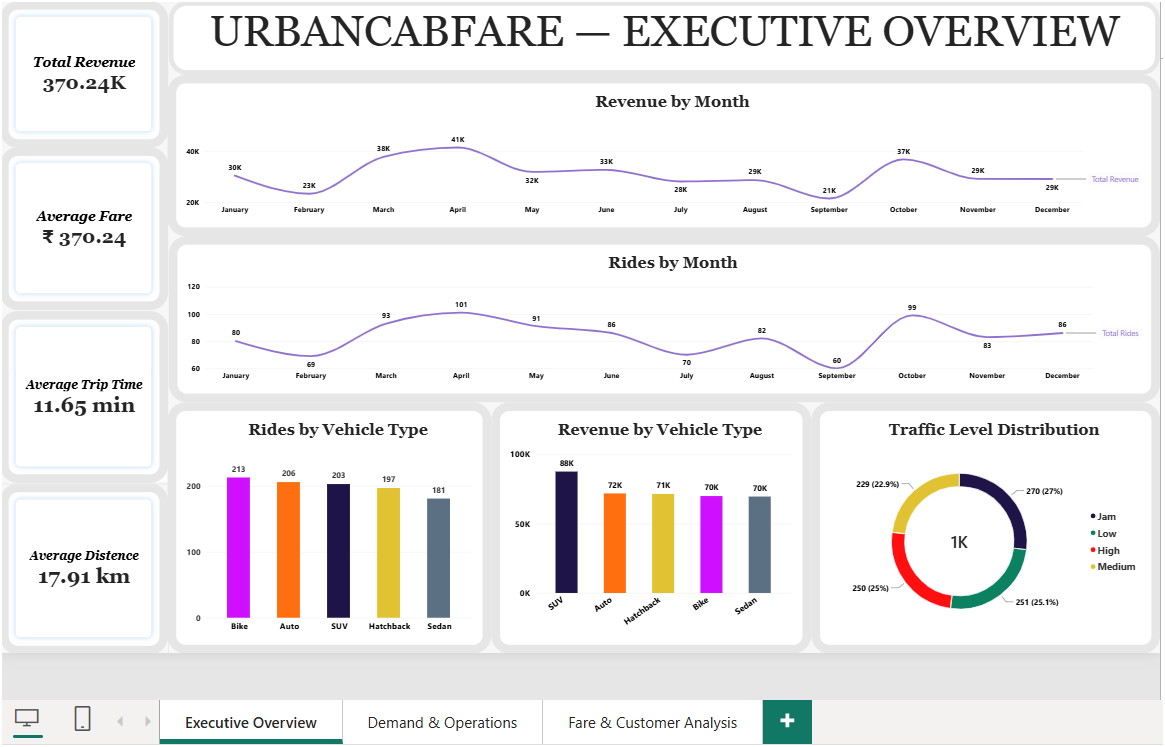

This screenshot's page, from the dashboard's own definition file:
{"tool":"powerbi","page":{"name":"Executive Overview","canvas":[1920,1080],"ordinal":0},"visuals":[{"type":"cardVisual","fields":{"Data":["UrbanCabFare.Total Revenue"]},"box":[0,0,278.5,243.1],"z":0},{"type":"cardVisual","fields":{"Data":["UrbanCabFare.Average Fare"]},"box":[0,242.9,278.5,269.6],"z":1000},{"type":"cardVisual","fields":{"Data":["UrbanCabFare.Average Distence"]},"box":[0,798.6,278.5,282.9],"z":2000},{"type":"cardVisual","fields":{"Data":["UrbanCabFare.Average Trip Time"]},"box":[0,512.5,278.5,285.1],"z":3000},{"type":"lineChart","title":"Revenue by Month","fields":{"Category":["UrbanCabFare.Ride_Date.Variation.Date Hierarchy.Month"],"Y":["UrbanCabFare.Total Revenue"]},"box":[277.3,122.1,1643.1,267],"z":4000},{"type":"lineChart","title":"Rides by Month","fields":{"Category":["UrbanCabFare.Ride_Date.Variation.Date Hierarchy.Month"],"Y":["UrbanCabFare.Total Rides"]},"box":[279.4,389.1,1641,275.2],"z":5000},{"type":"clusteredColumnChart","title":"Rides by Vehicle Type","fields":{"Y":["UrbanCabFare.Total Rides"],"Category":["UrbanCabFare.Type_of_vehicle"]},"box":[277.3,664.3,536,416],"z":6000},{"type":"clusteredColumnChart","title":"Revenue by Vehicle Type","fields":{"Category":["UrbanCabFare.Type_of_vehicle"],"Y":["UrbanCabFare.Total Revenue"]},"box":[813.3,664.3,529.8,416],"z":7000},{"type":"donutChart","title":"Traffic Level Distribution","fields":{"Category":["UrbanCabFare.Traffic_Level"],"Y":["UrbanCabFare.Total Rides"]},"box":[1343.1,664.3,577.4,416],"z":8000},{"type":"textbox","box":[279.4,0,1641,122.1],"z":9000}]}

Visuals, with their boxes on the page's 1920x1080 design canvas (x1, y1, x2, y2). These are canvas units, not pixel positions in the 1165x747 screenshot, which may show the page scaled, cropped or inside an application window:
cardVisual - UrbanCabFare.Total Revenue: <bbox>0, 0, 278, 243</bbox>
cardVisual - UrbanCabFare.Average Fare: <bbox>0, 243, 278, 512</bbox>
cardVisual - UrbanCabFare.Average Distence: <bbox>0, 799, 278, 1082</bbox>
cardVisual - UrbanCabFare.Average Trip Time: <bbox>0, 512, 278, 798</bbox>
"Revenue by Month" lineChart: <bbox>277, 122, 1920, 389</bbox>
"Rides by Month" lineChart: <bbox>279, 389, 1920, 664</bbox>
"Rides by Vehicle Type" clusteredColumnChart: <bbox>277, 664, 813, 1080</bbox>
"Revenue by Vehicle Type" clusteredColumnChart: <bbox>813, 664, 1343, 1080</bbox>
"Traffic Level Distribution" donutChart: <bbox>1343, 664, 1920, 1080</bbox>
textbox: <bbox>279, 0, 1920, 122</bbox>
